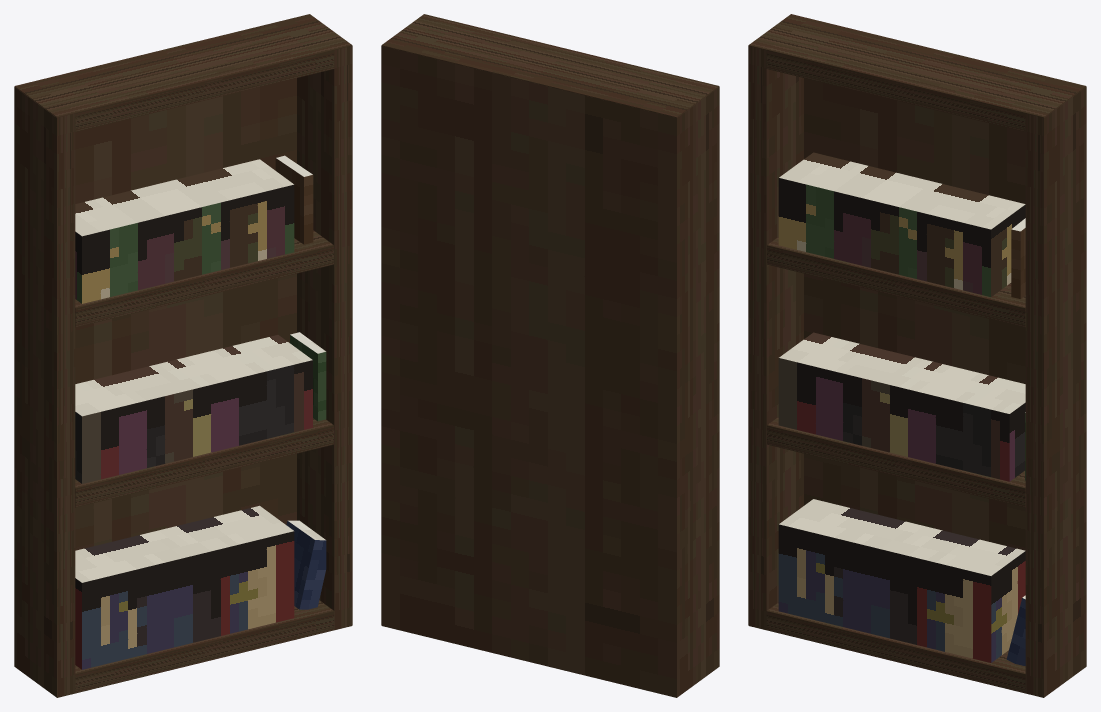
File: bookcase.gltf
3 views of the same model, side by side, from view 1: azimuth 30°, elevation 25°; view 2: azimuth 150°, elevation 25°; view 3: azimuth 330°, elevation 25° (orthographic).
Visible parts, largest first — view 1: bookcase_back, bookcase_side_L, bookcase_run0, bookcase_run1, bookcase_side_R, bookcase_run2, bookcase_top, bookcase_bottom, bookcase_shelf1, bookcase_shelf0, bookcase_hero0, bookcase_hero2 (+1 smaller); view 2: bookcase_back, bookcase_side_L, bookcase_top, bookcase_side_R; view 3: bookcase_back, bookcase_side_R, bookcase_run0, bookcase_run1, bookcase_run2, bookcase_side_L, bookcase_top, bookcase_bottom, bookcase_shelf1, bookcase_shelf0, bookcase_hero2, bookcase_hero0.
Boxes of the visible parts, bbox=[...] form: bookcase_back: bbox=[75, 78, 296, 550]; bookcase_side_L: bbox=[14, 87, 75, 697]; bookcase_run0: bbox=[75, 505, 294, 669]; bookcase_run1: bbox=[75, 335, 312, 483]; bookcase_side_R: bbox=[297, 46, 352, 629]; bookcase_run2: bbox=[75, 159, 294, 303]; bookcase_top: bbox=[14, 14, 352, 131]; bookcase_bottom: bbox=[17, 600, 352, 697]; bookcase_shelf1: bbox=[75, 230, 333, 327]; bookcase_shelf0: bbox=[75, 418, 333, 507]; bookcase_hero0: bbox=[286, 520, 326, 609]; bookcase_hero2: bbox=[275, 155, 313, 244]; bookcase_back: bbox=[381, 46, 676, 697]; bookcase_side_L: bbox=[660, 87, 719, 697]; bookcase_top: bbox=[381, 14, 719, 117]; bookcase_side_R: bbox=[381, 46, 392, 624]; bookcase_back: bbox=[804, 78, 1025, 550]; bookcase_side_R: bbox=[1025, 87, 1086, 697]; bookcase_run0: bbox=[778, 499, 1025, 662]; bookcase_run1: bbox=[778, 332, 1025, 481]; bookcase_run2: bbox=[778, 152, 1025, 296]; bookcase_side_L: bbox=[748, 45, 803, 629]; bookcase_top: bbox=[748, 14, 1086, 131]; bookcase_bottom: bbox=[748, 602, 1085, 697]; bookcase_shelf1: bbox=[767, 237, 1025, 327]; bookcase_shelf0: bbox=[767, 417, 1025, 507]; bookcase_hero2: bbox=[1011, 218, 1025, 298]; bookcase_hero0: bbox=[1006, 595, 1025, 665].
Bounding box in the file's own units: 0.9999 × 1.87 × 0.2497.
Materials: 7 (7 with a texture image).
